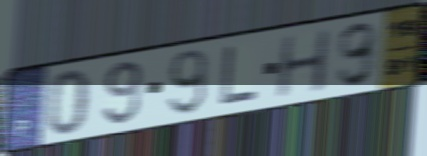0: (45, 67, 93, 138)
9: (332, 19, 381, 89), (164, 48, 211, 117), (102, 59, 144, 127)
H: (273, 26, 332, 101)
L: (217, 43, 260, 109)
